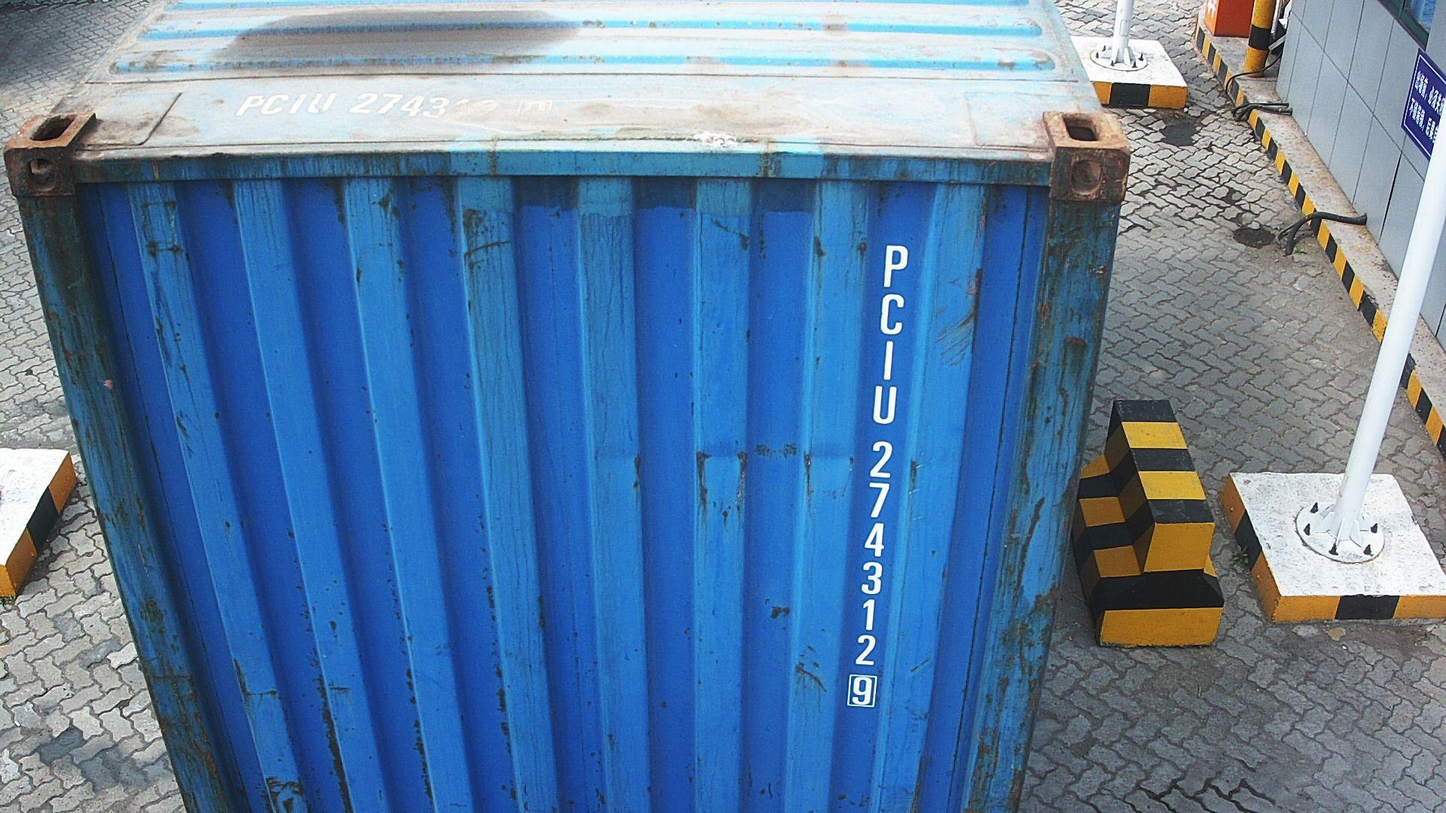container-numbers: (841, 238, 913, 717), (227, 87, 560, 120)
